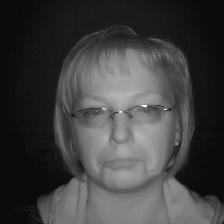sad: (47, 24, 203, 190)
